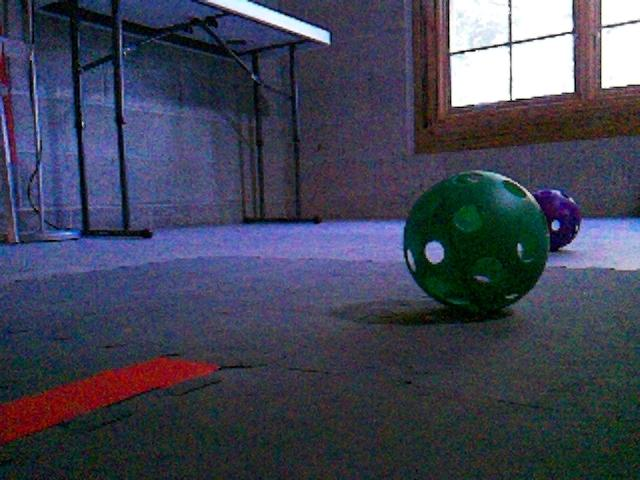Green: (400, 167, 551, 319)
Purple: (531, 185, 582, 252)
